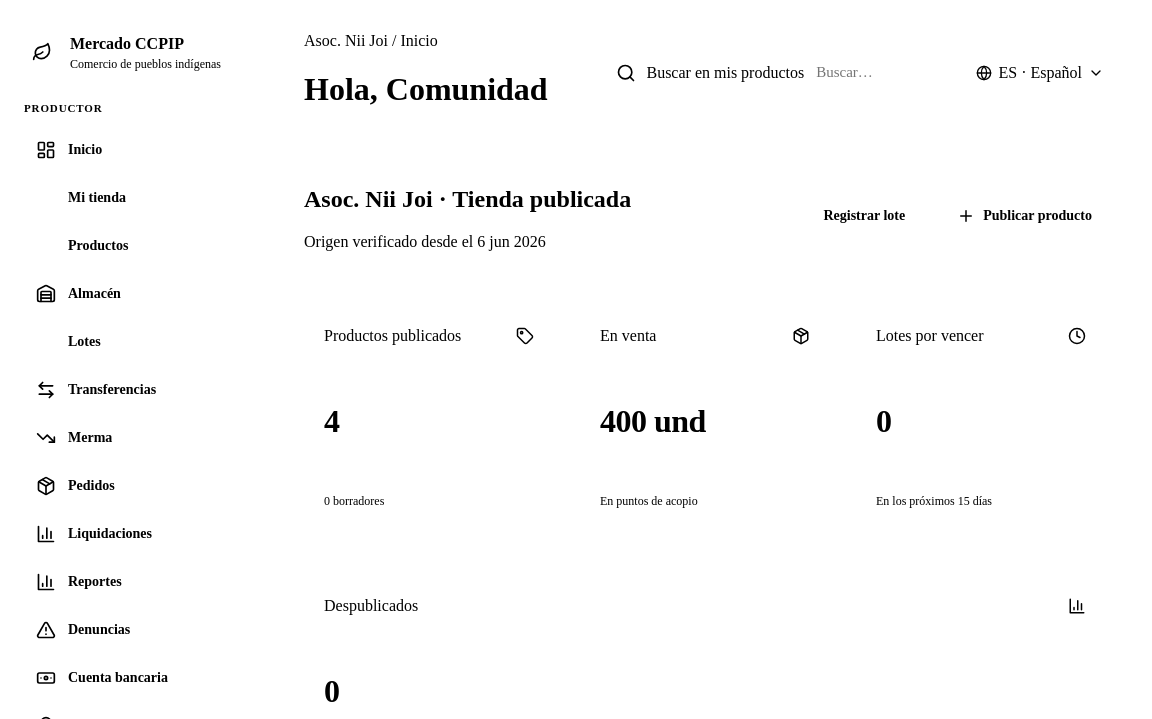
Selector de idioma (CCPIP-265) › el panel del productor también ofrece el selector
What coordinates should you click on to do the following:
click the button "ES · Español"
I would click on:
 (1040, 73)
Its box is left=968, top=60, right=1112, bottom=86.
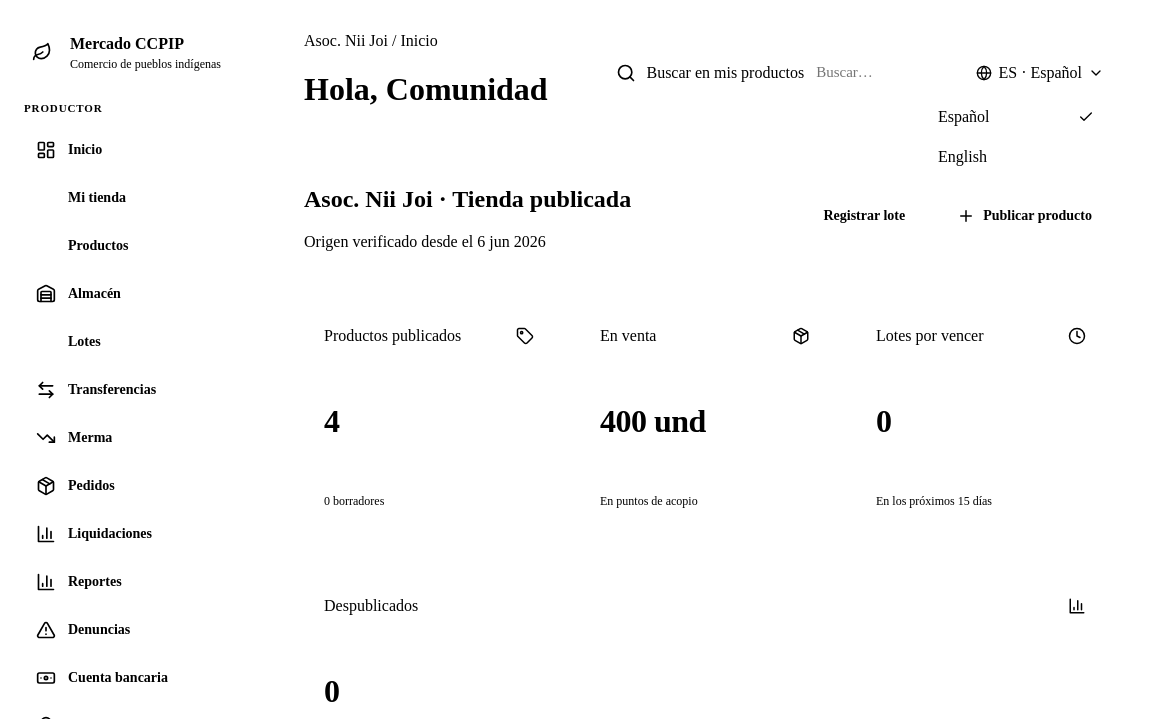
What coordinates should you click on to do the following:
click the menu item "English"
I would click on:
 (1016, 157)
Its box is left=926, top=138, right=1106, bottom=176.
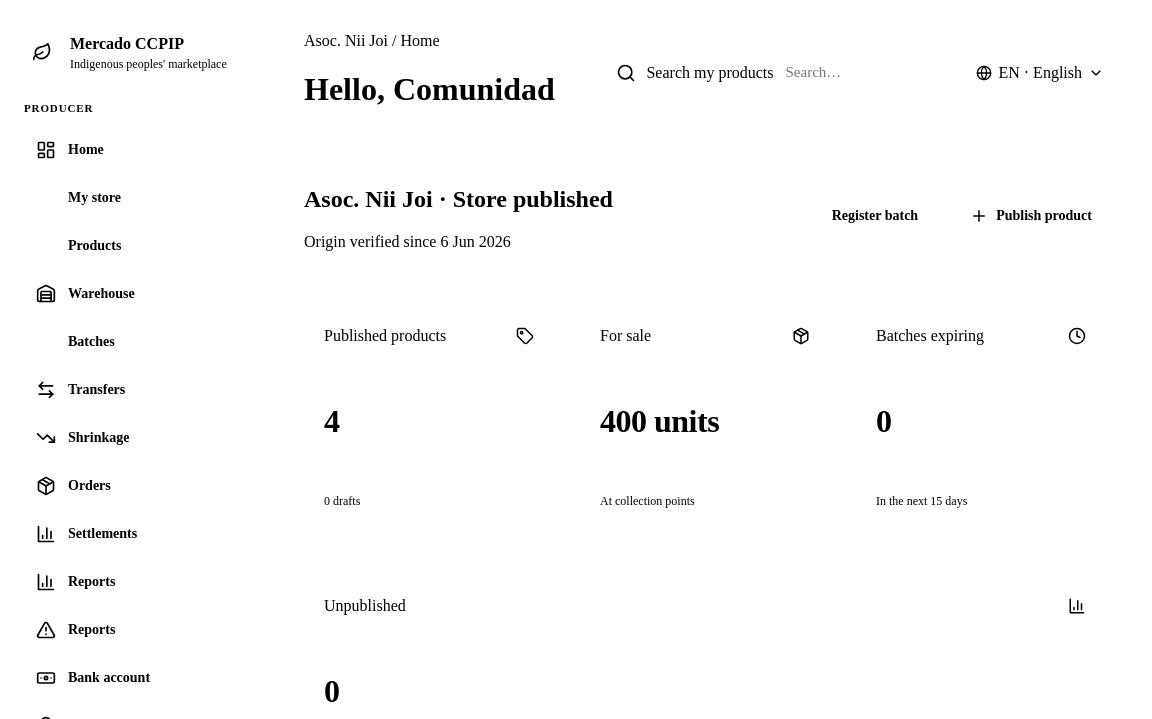
Result: the link "My store" is shown at left=36, top=188, right=121, bottom=208
